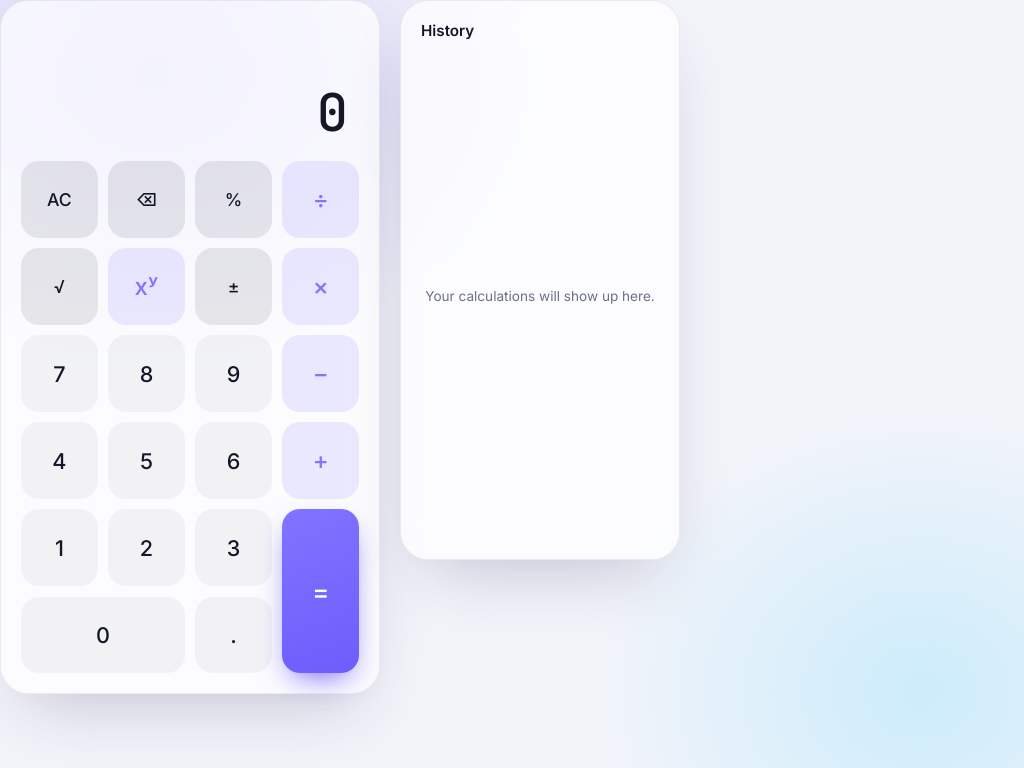
Test: Calculator › adds two numbers through the API
Click the button "1" at x=59, y=548, box top-left (21, 509), bottom-right (98, 586)
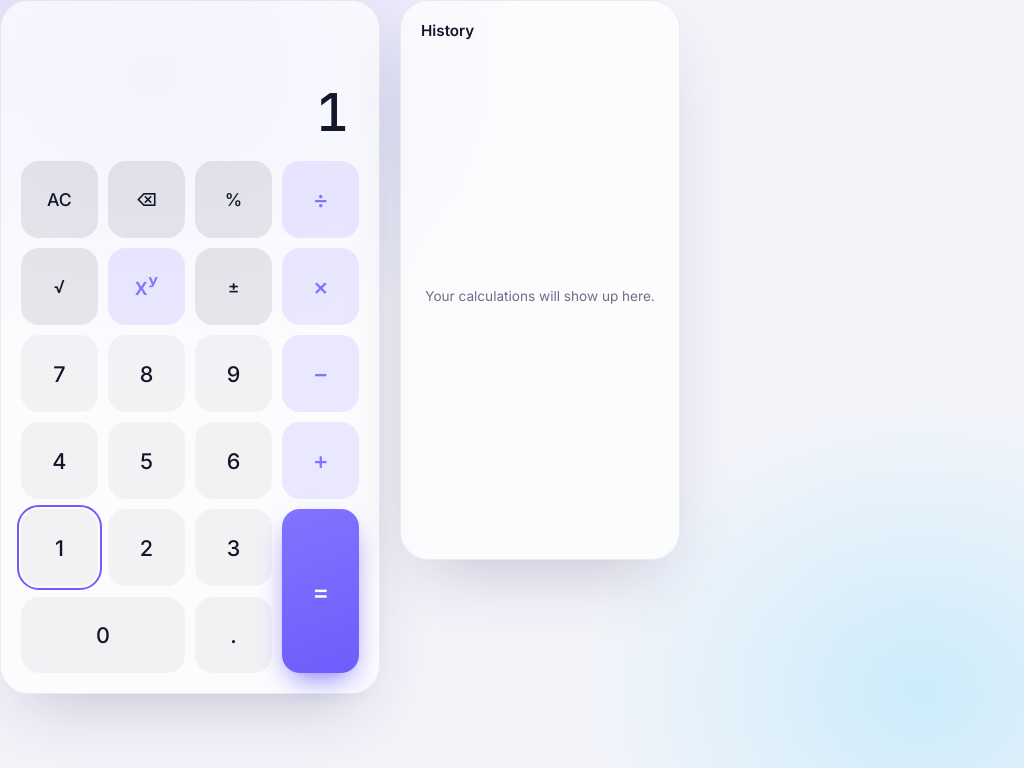
Click the button "2" at x=146, y=548, box top-left (108, 509), bottom-right (185, 586)
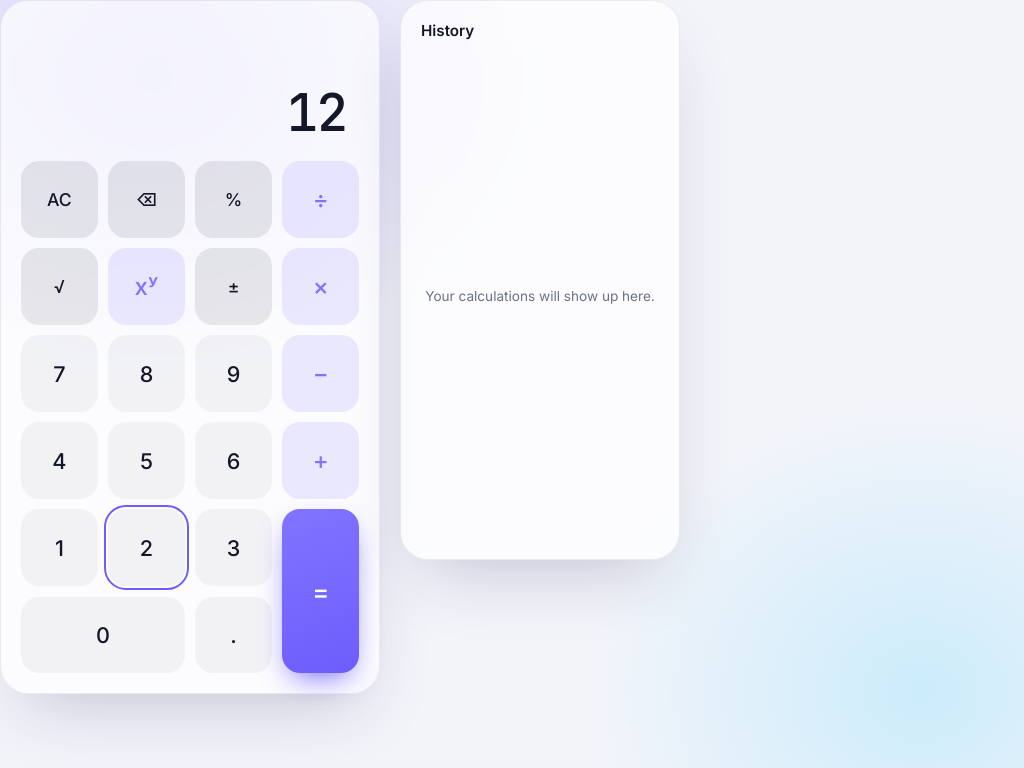
Click the button named "add" at x=321, y=461, box top-left (282, 422), bottom-right (359, 499)
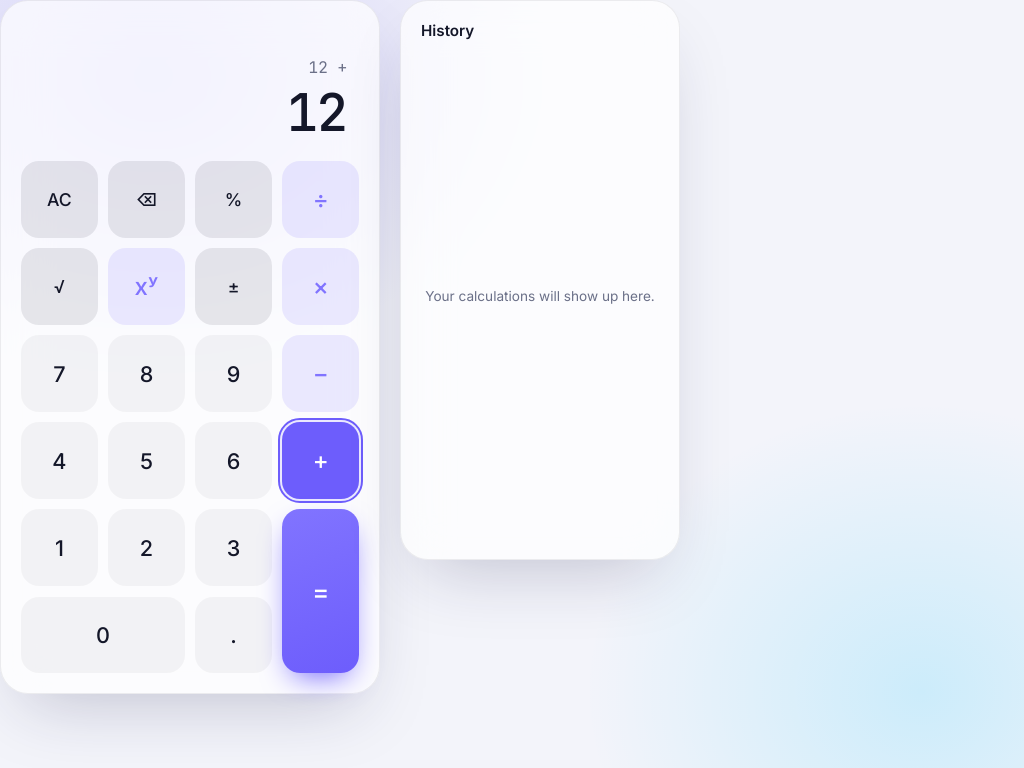
Click the button "3" at x=234, y=548, box top-left (195, 509), bottom-right (272, 586)
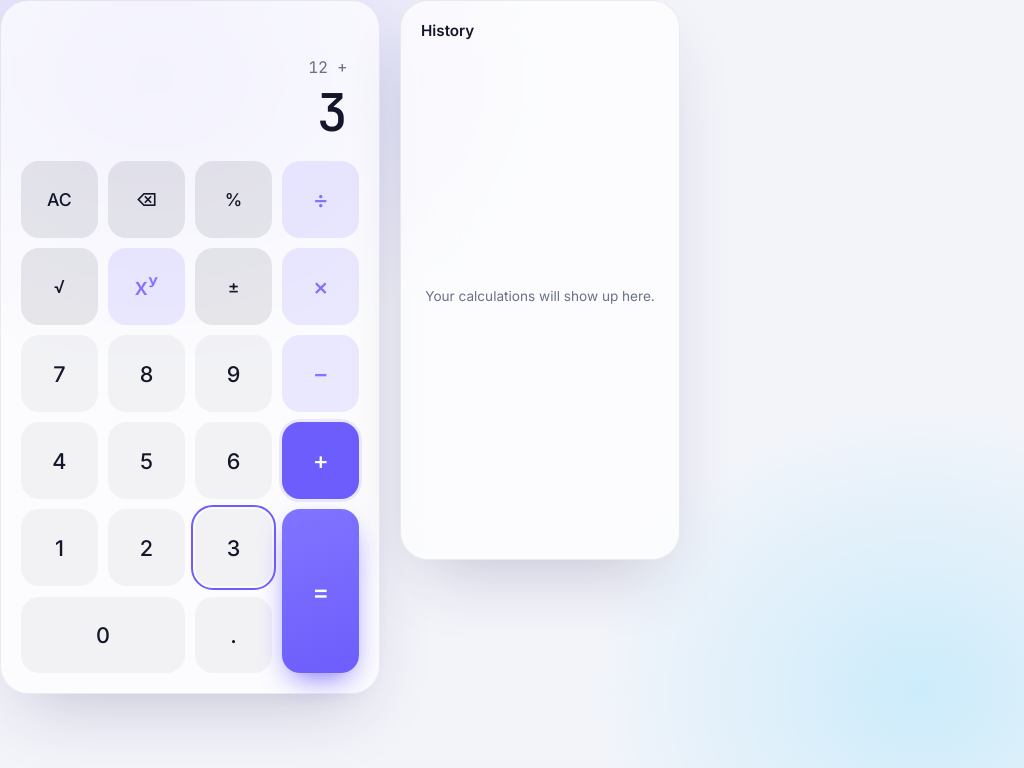
Click the button named "equals" at x=321, y=591, box top-left (282, 509), bottom-right (359, 673)
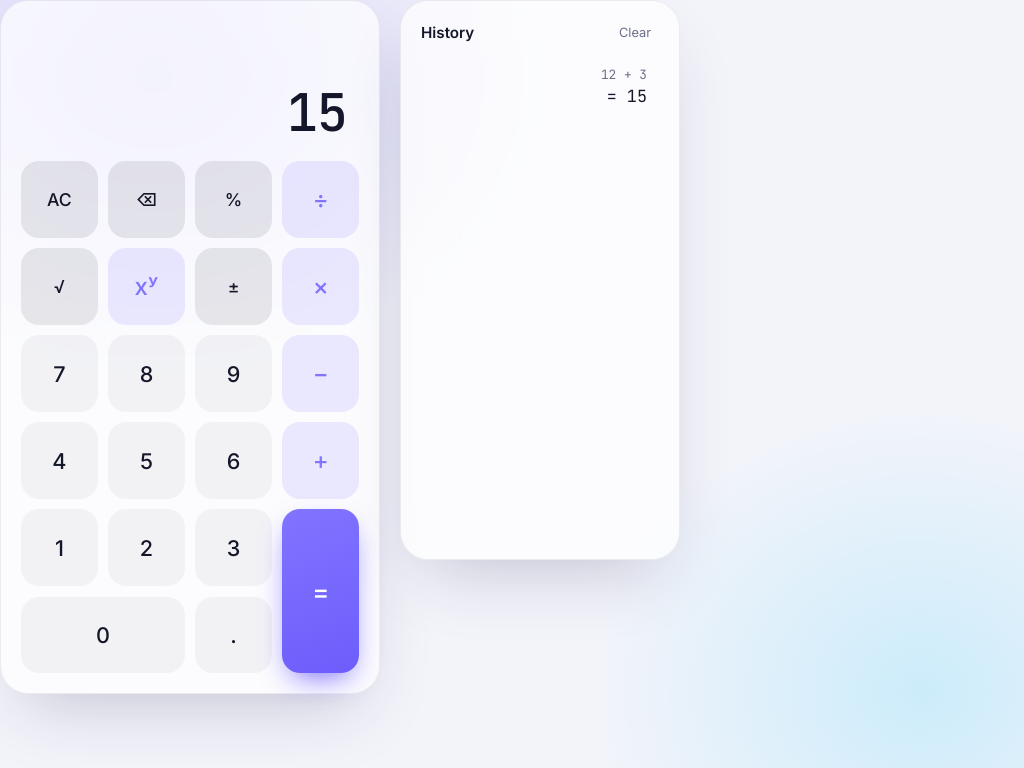
Expected: the text "12 + 3" is shown, top-left (601, 66), bottom-right (647, 83)
Expected: the text with test id "display" reads "15", top-left (287, 78), bottom-right (347, 147)
